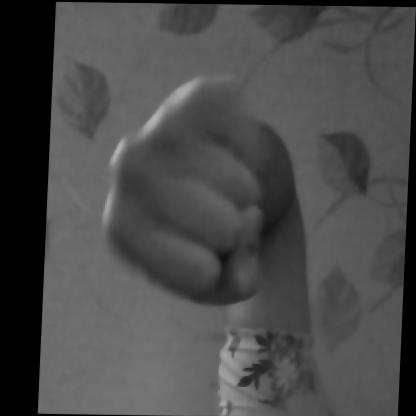fist: (72, 66, 343, 337)
